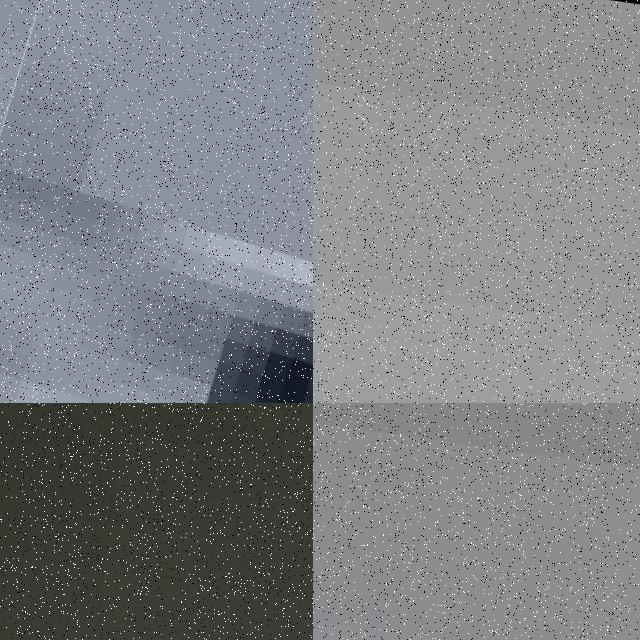drone: (0, 0, 313, 403)
